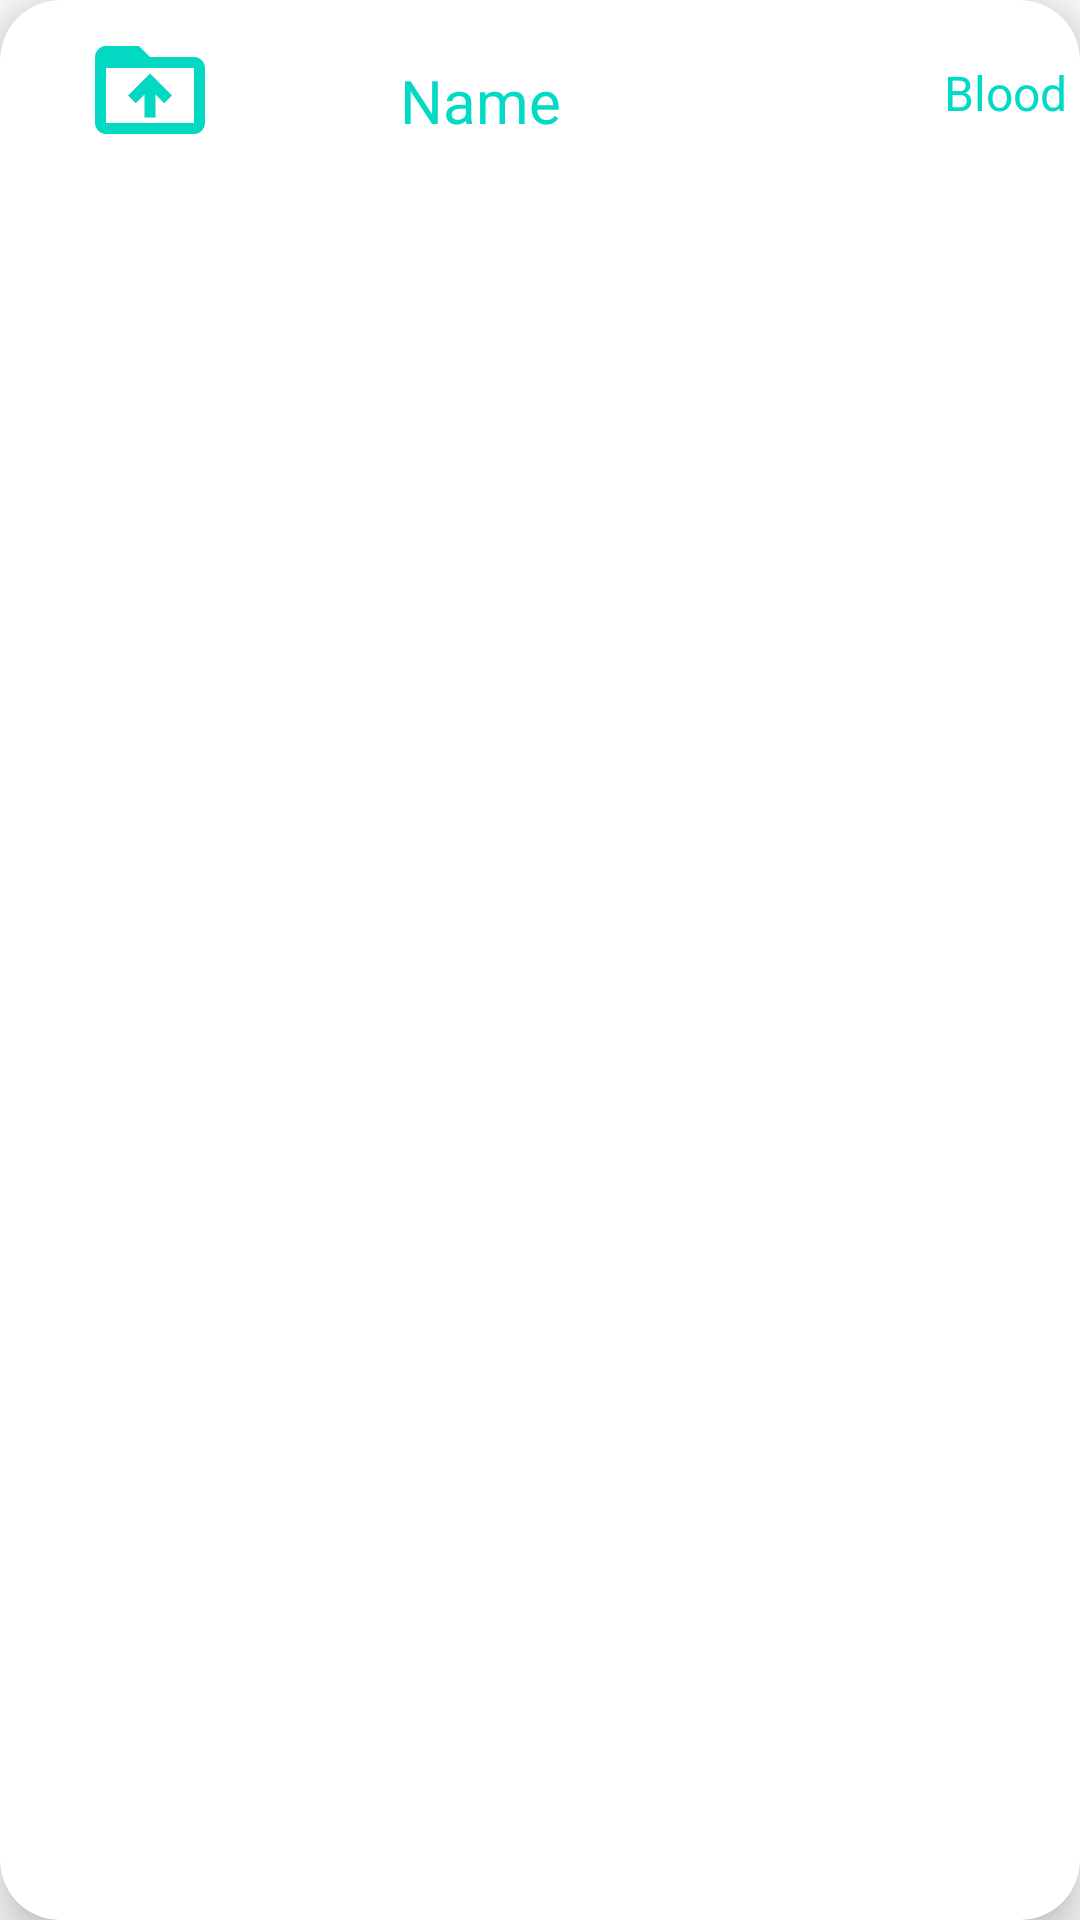

Named icons in this screenshot (1080 x 1920) and their bounding boxes, (x1, y1, x2, y2):
food drive folder upload: (95, 46, 205, 134)
